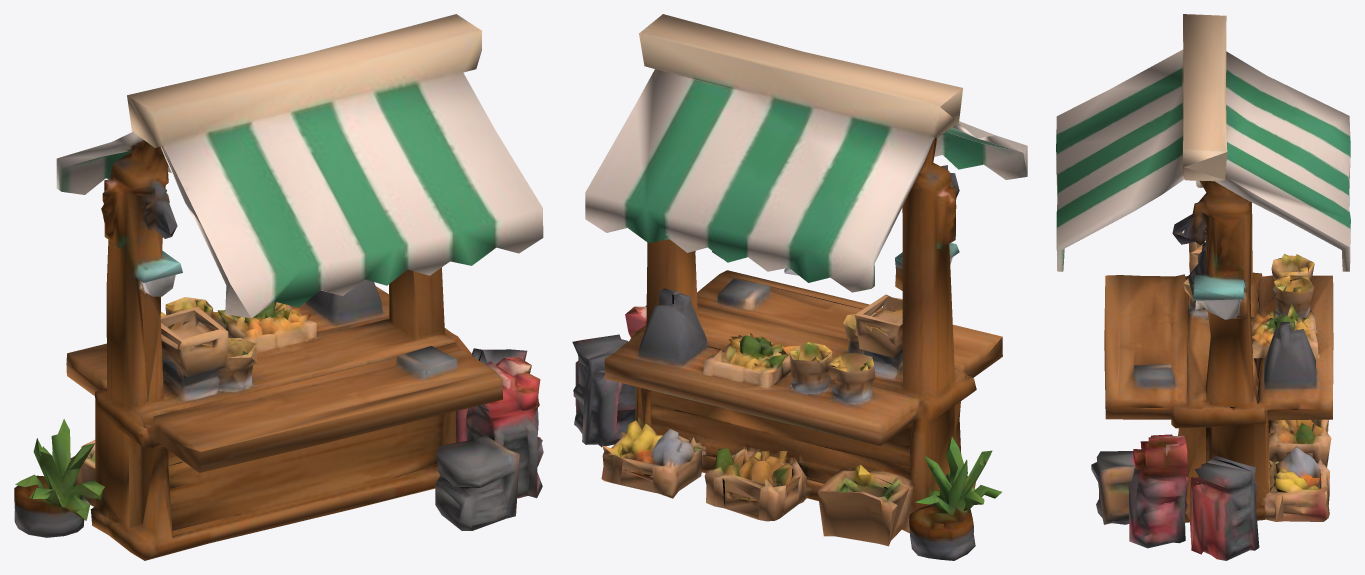
File: awning_stall_5_6000.glb
The picture shows the model from 3 angles, left to right: view 1: azimuth 30°, elevation 25°; view 2: azimuth 150°, elevation 25°; view 3: azimuth 270°, elevation 25°; orthographic projection. The views are drawn at different scales.
Parts seen in each view (by area): view 1: t6000; view 2: t6000; view 3: t6000.
Boxes of the visible parts, x1,y1,x2,y2 form: t6000: [14, 14, 543, 560]; t6000: [572, 14, 1027, 560]; t6000: [1056, 14, 1350, 560].
Bounding box in the file's own units: 1.91 × 1.7 × 1.19.
1 material, 1 textured.
